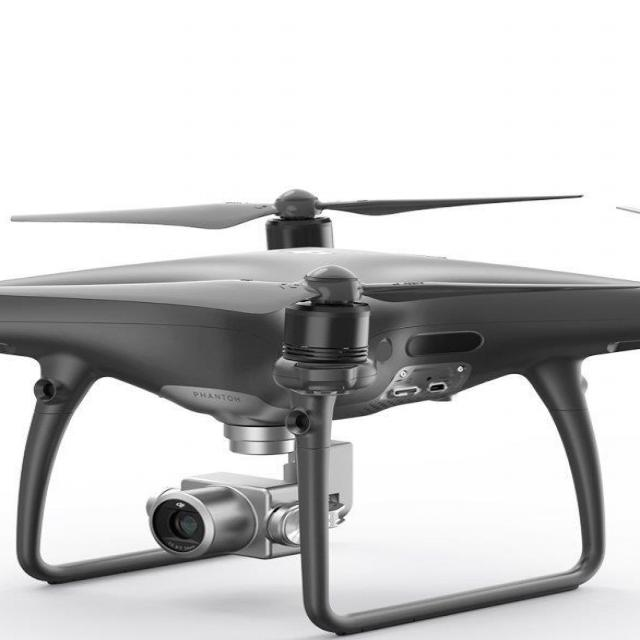drone: (0, 164, 640, 556)
